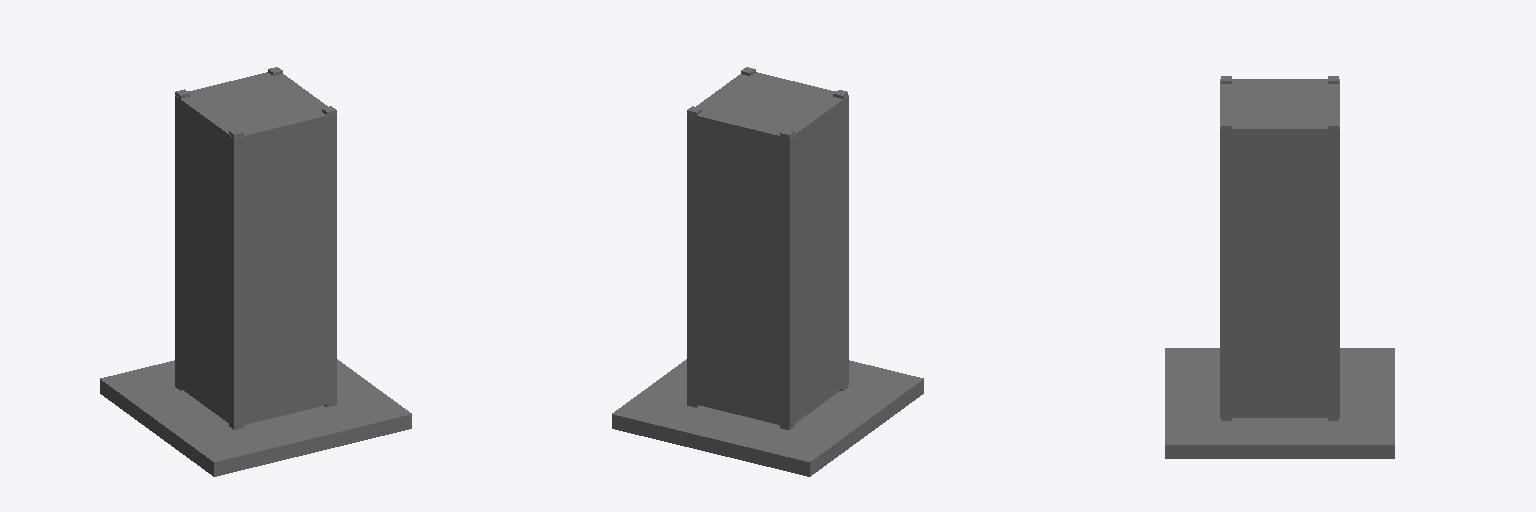
Rendered from WaterLantern3_low.obj.
The picture shows the model from 3 angles: view 1: azimuth 30°, elevation 25°; view 2: azimuth 150°, elevation 25°; view 3: azimuth 270°, elevation 25°; orthographic projection.
Visible parts, largest first — view 1: pCube22; view 2: pCube22; view 3: pCube22.
Part boxes in pixels (x1,y1,x2,y2): pCube22: (100, 67, 411, 476); pCube22: (612, 67, 923, 476); pCube22: (1165, 76, 1394, 458).
Bounding box in the file's own units: 13.55 × 20.24 × 13.55.